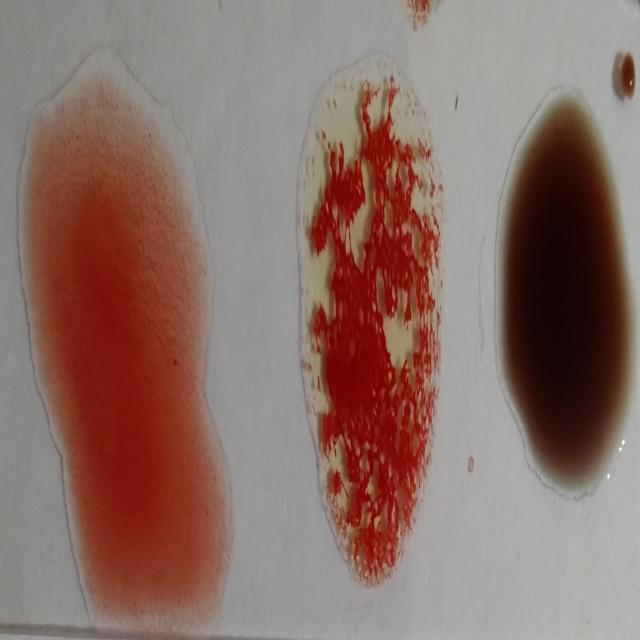B: (301, 65, 439, 583)
D: (33, 82, 210, 626)
